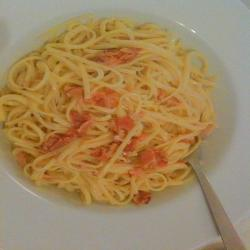bolonese_pasta: (7, 21, 211, 204)
